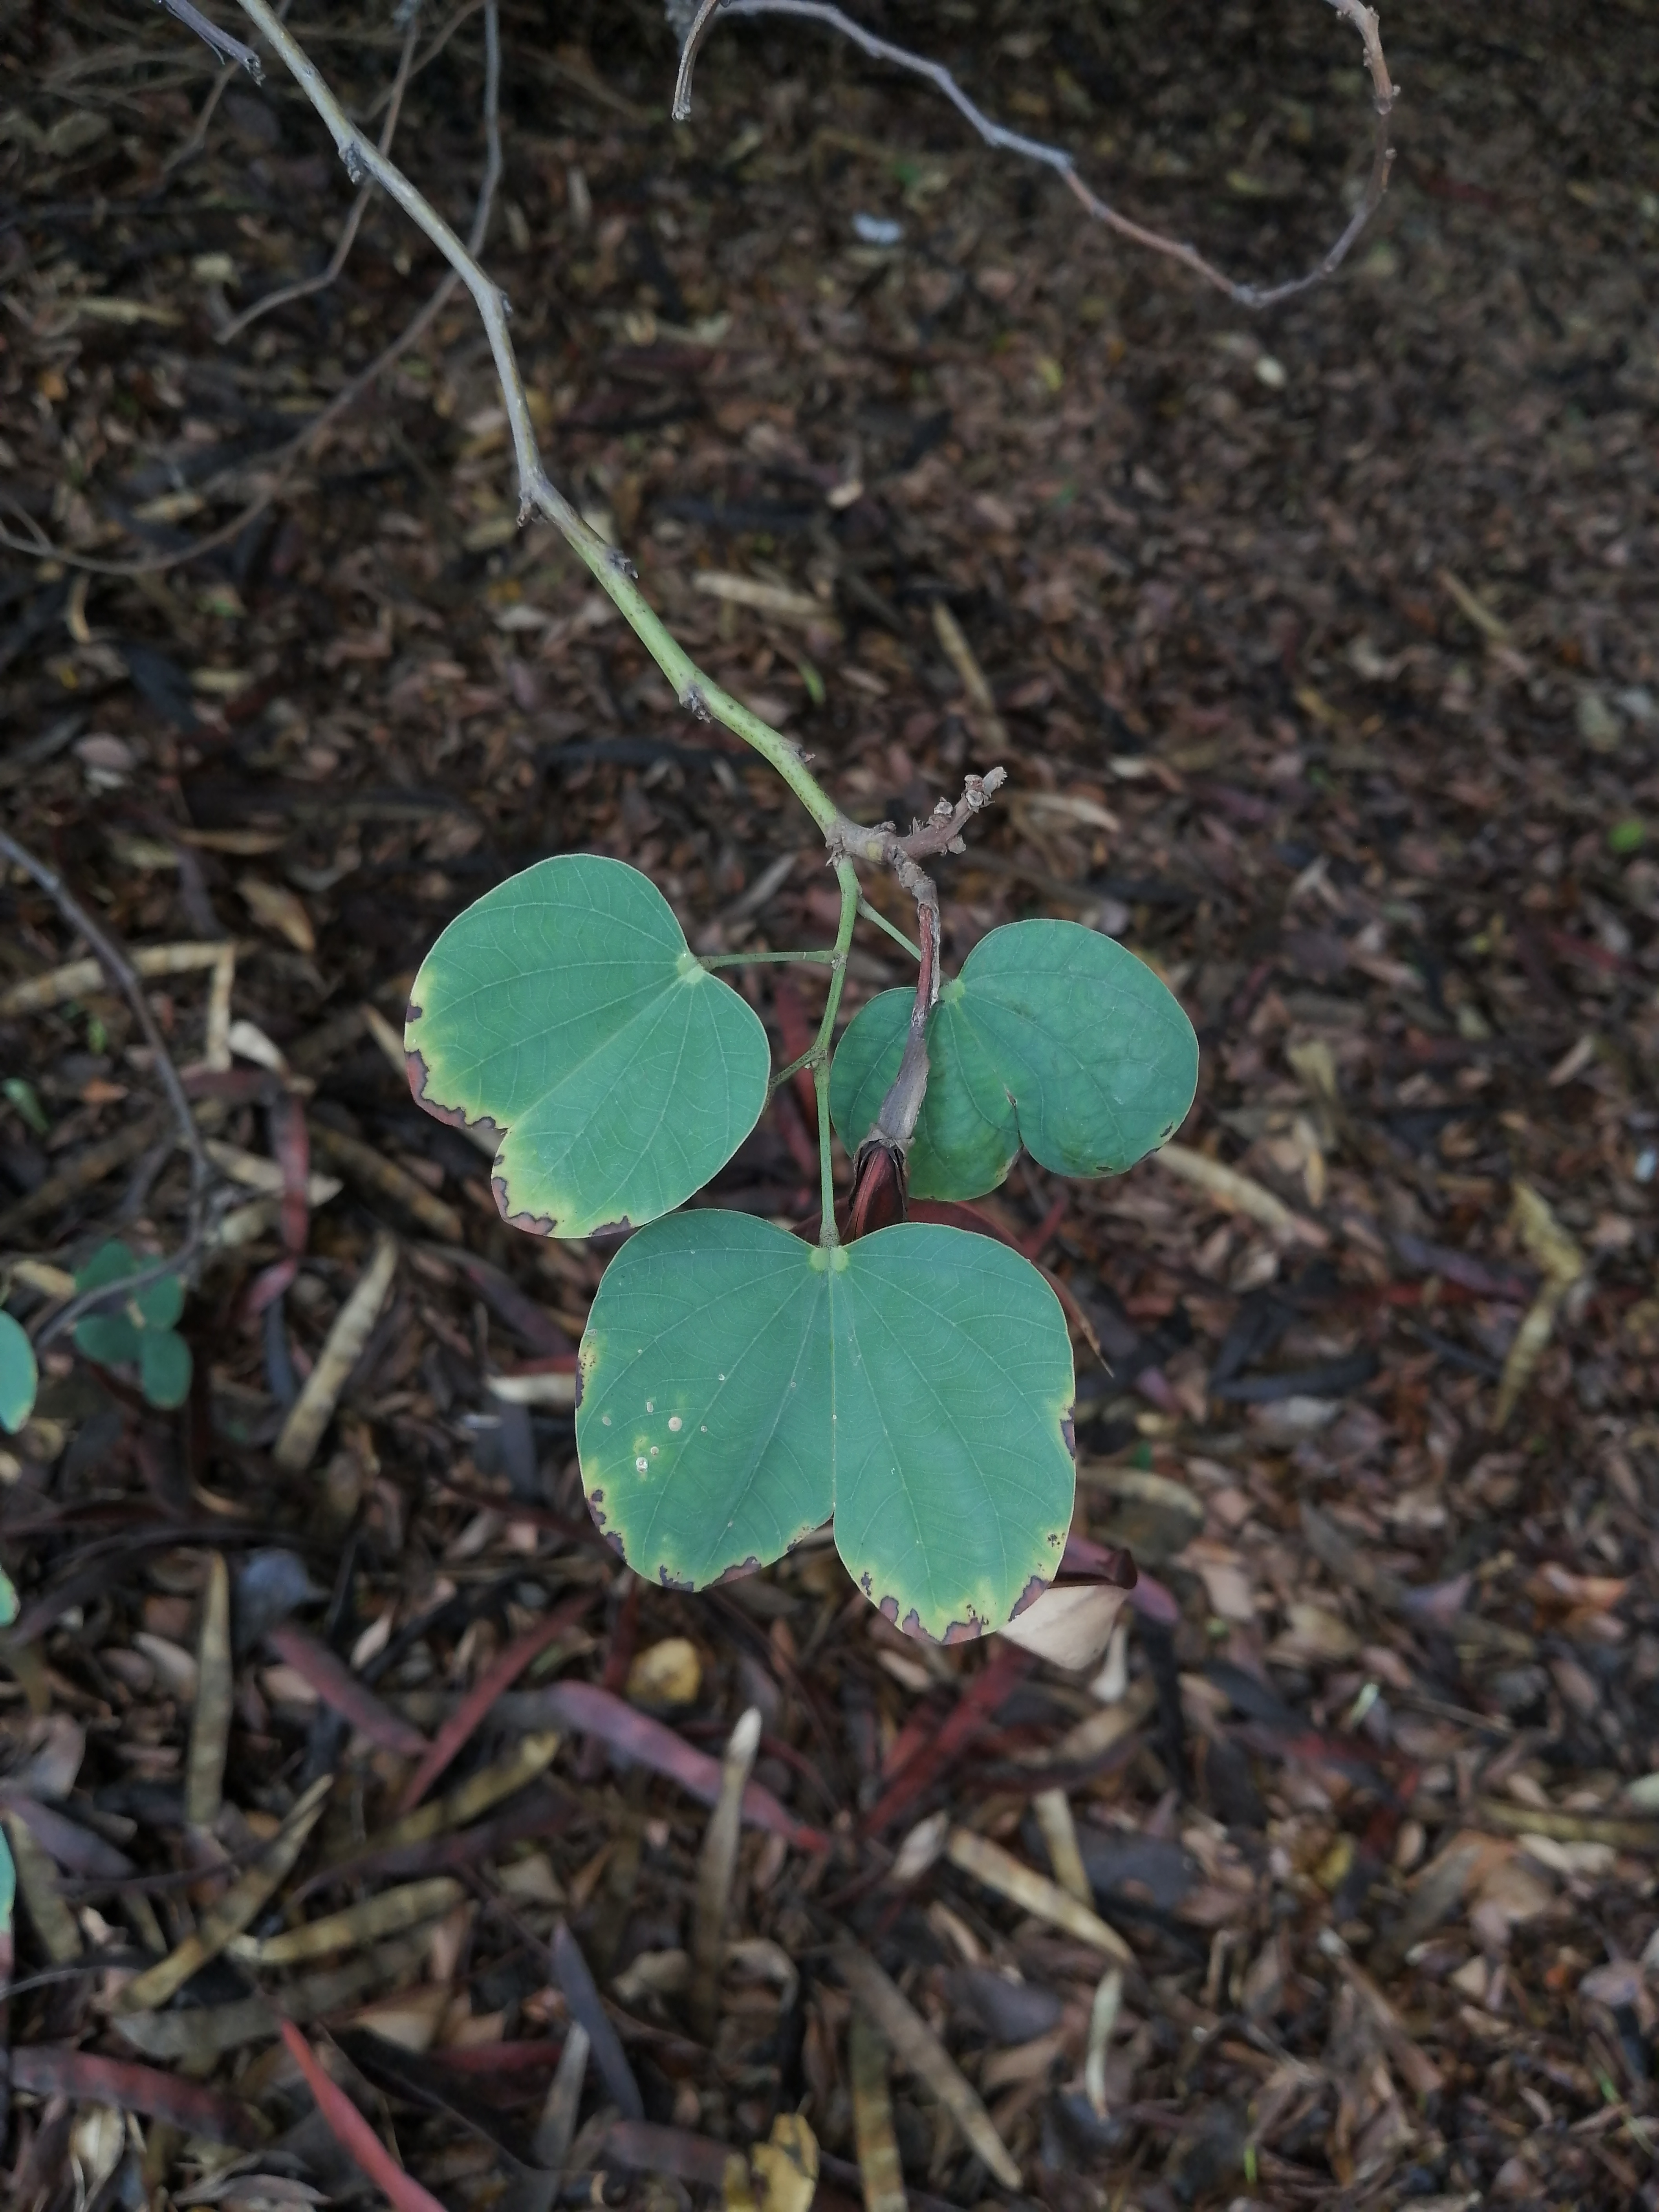nothealthy: (568, 1211, 1093, 1642), (389, 838, 789, 1245)
